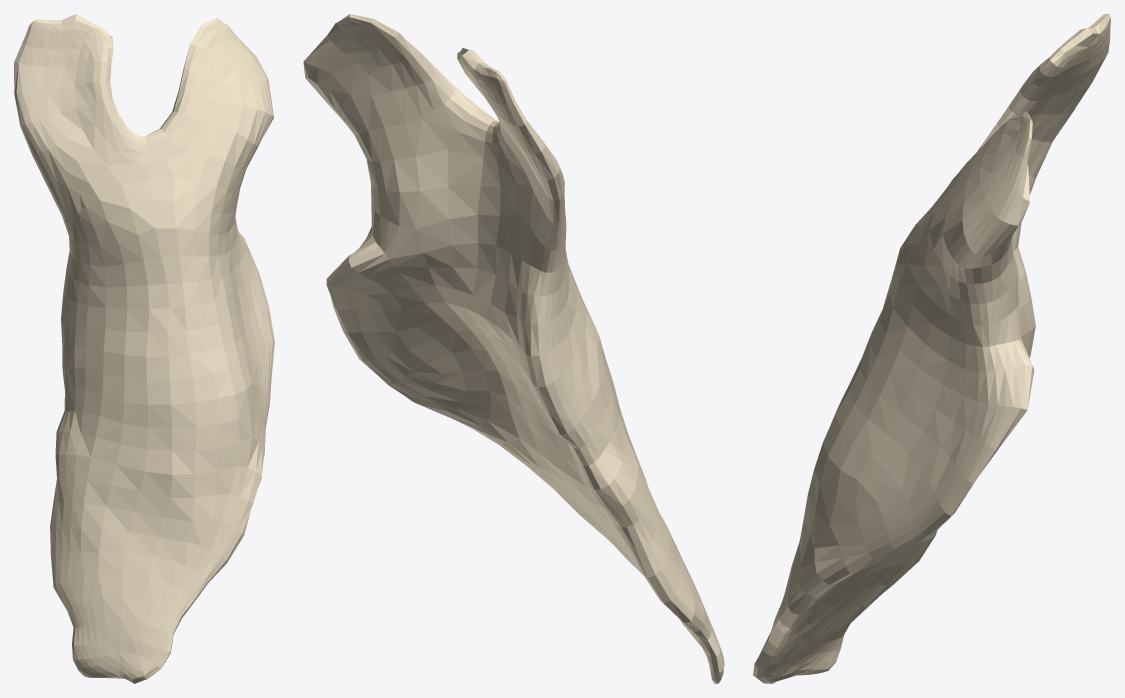
Rendered from thymus.glb.
3 renders of one model, left to right at view 1: azimuth 30°, elevation 25°; view 2: azimuth 150°, elevation 25°; view 3: azimuth 270°, elevation 25°, orthographic. The views are drawn at different scales.
Parts seen in each view (by area): view 1: VH_M_thymus_lobe_L, VH_M_thymus_lobe_R; view 2: VH_M_thymus_lobe_R, VH_M_thymus_lobe_L; view 3: VH_M_thymus_lobe_R, VH_M_thymus_lobe_L.
Part boxes in pixels (x1=…): VH_M_thymus_lobe_L: x1=14, y1=14, x2=172, y2=678; VH_M_thymus_lobe_R: x1=123, y1=18, x2=274, y2=683; VH_M_thymus_lobe_R: x1=303, y1=14, x2=643, y2=575; VH_M_thymus_lobe_L: x1=457, y1=48, x2=724, y2=683; VH_M_thymus_lobe_R: x1=753, y1=111, x2=1034, y2=683; VH_M_thymus_lobe_L: x1=787, y1=14, x2=1110, y2=678.
Size of the model in its own units: 0.037 by 0.0757 by 0.0351.
